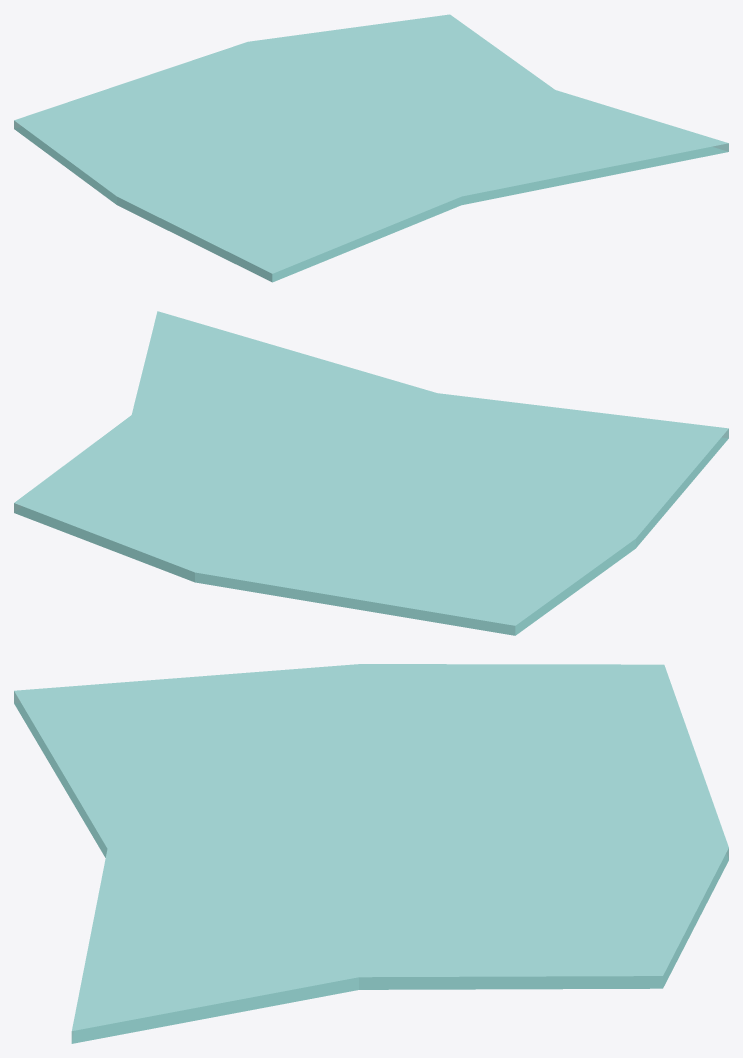
File: GlassSheet.fbx
3 renders of one model, top to bottom at view 1: azimuth 30°, elevation 25°; view 2: azimuth 150°, elevation 25°; view 3: azimuth 270°, elevation 25°, orthographic. The views are drawn at different scales.
Visible parts, largest first — view 1: GlassSheet; view 2: GlassSheet; view 3: GlassSheet.
Boxes of the visible parts, <box> form: GlassSheet: <box>14,14,728,282</box>; GlassSheet: <box>14,311,728,635</box>; GlassSheet: <box>14,664,728,1043</box>.
Bounding box in the file's own units: 51.16 × 0.8269 × 42.09.
